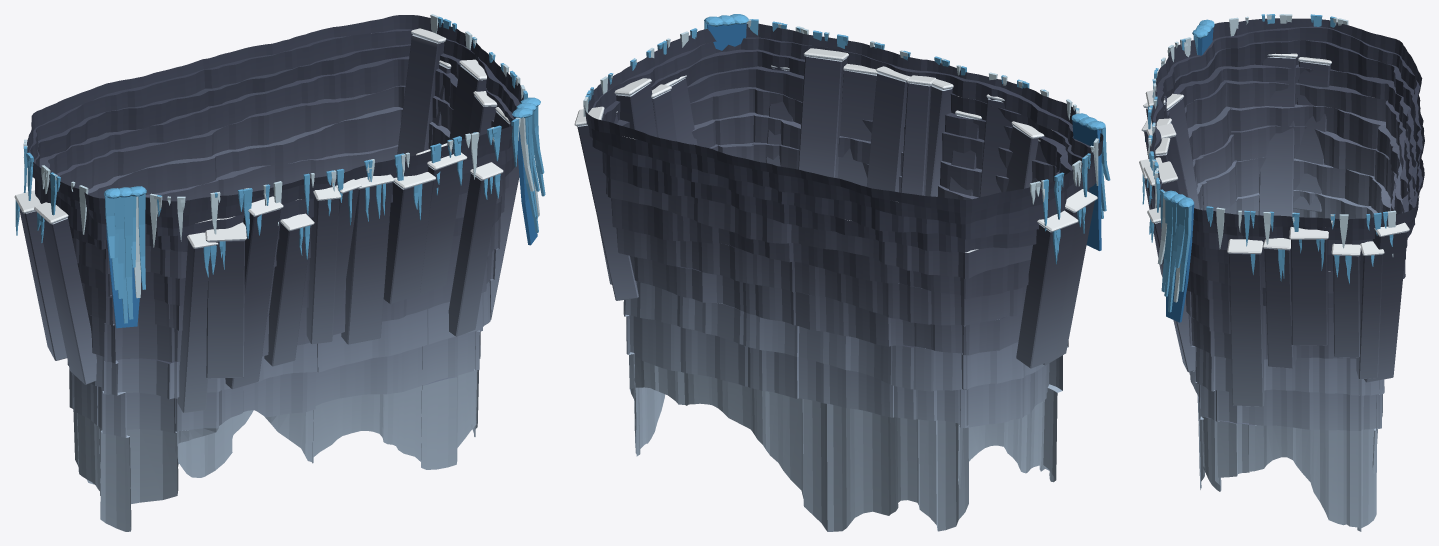
File: Arena_Snow_Cliffs.fbx
The picture shows the model from 3 angles, left to right: view 1: azimuth 30°, elevation 25°; view 2: azimuth 150°, elevation 25°; view 3: azimuth 270°, elevation 25°; orthographic projection. The views are drawn at different scales.
Parts seen in each view (by area): view 1: Arena_Snow_Cliffs.001; view 2: Arena_Snow_Cliffs.001; view 3: Arena_Snow_Cliffs.001.
Boxes of the visible parts, x1,y1,x2,y2 form: Arena_Snow_Cliffs.001: [14, 14, 545, 531]; Arena_Snow_Cliffs.001: [574, 14, 1110, 531]; Arena_Snow_Cliffs.001: [1139, 14, 1424, 531].
Size of the model in its own units: 32.51 by 26.03 by 18.72.
